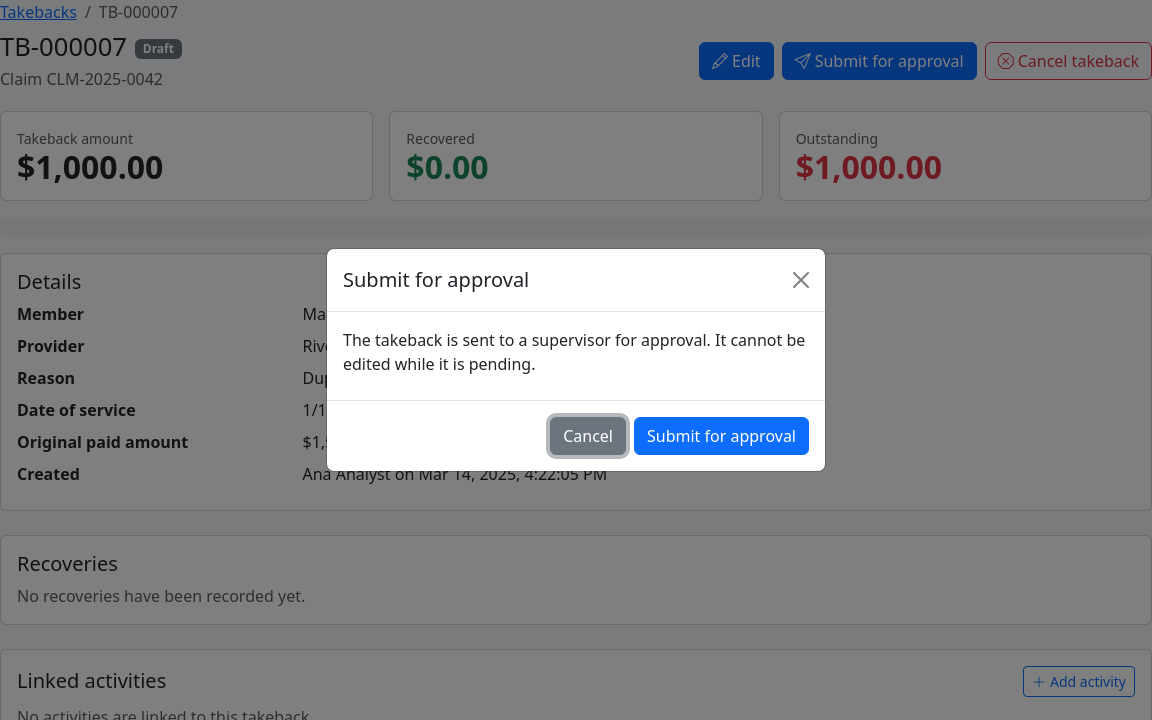
Test: TakebackDetailComponent › Submit › replaces the dialog with the concurrency panel when somebody else changed the takeback
The image size is (1152, 720).
Click the button "Submit for approval": point(722, 436) [634,417,809,455]
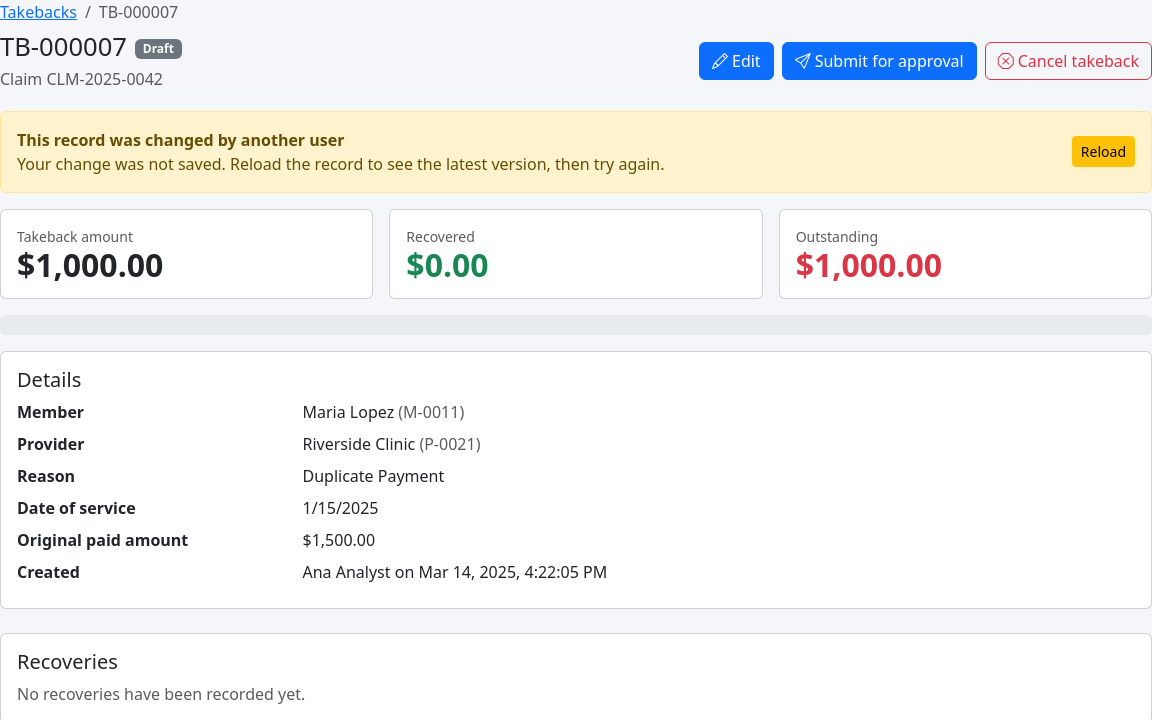
Check: the message shows "This record was changed by another user", box [17,129,344,151]
